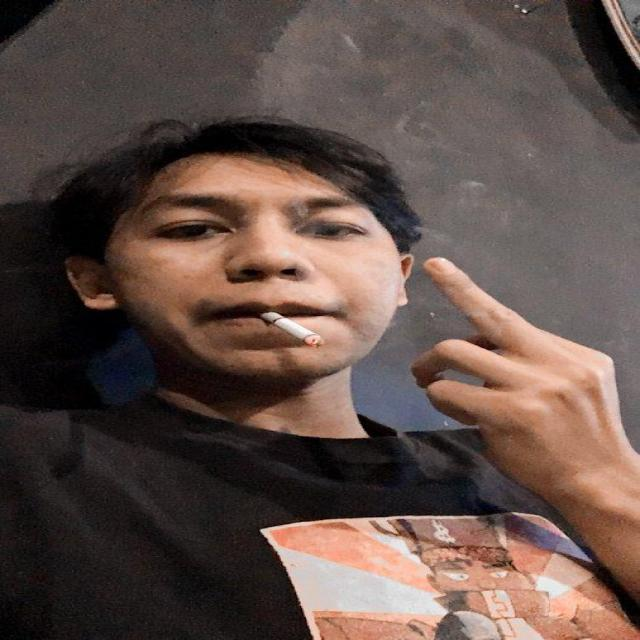rokok: (256, 309, 328, 353)
